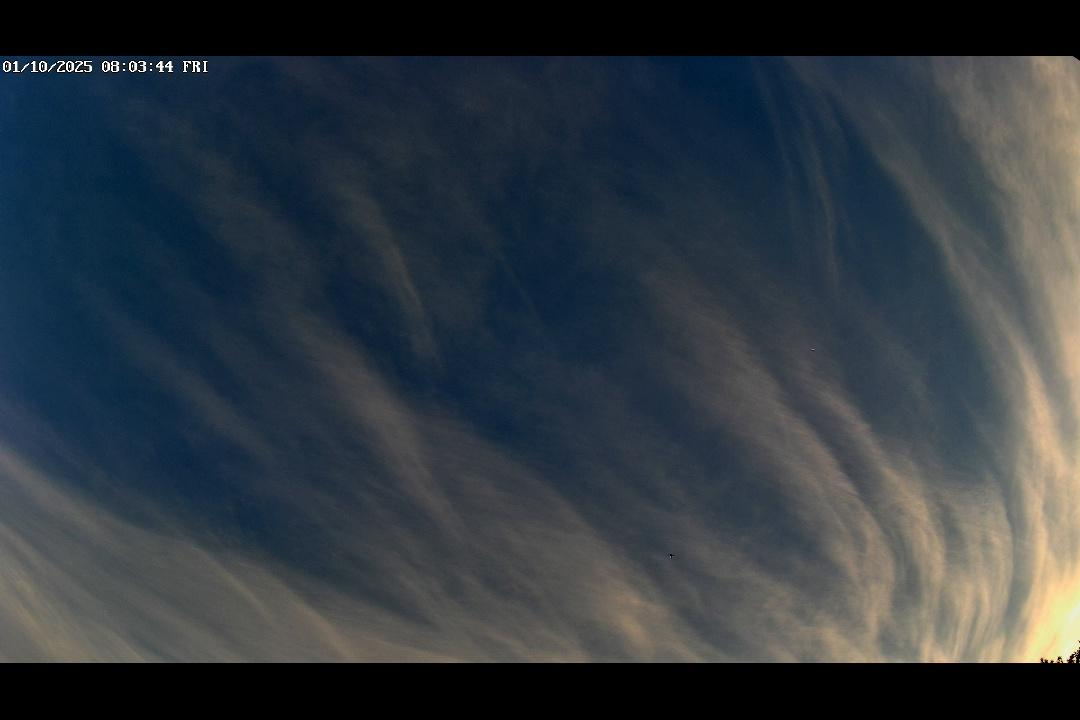WildLife: (655, 545, 684, 563), (806, 344, 819, 356)
